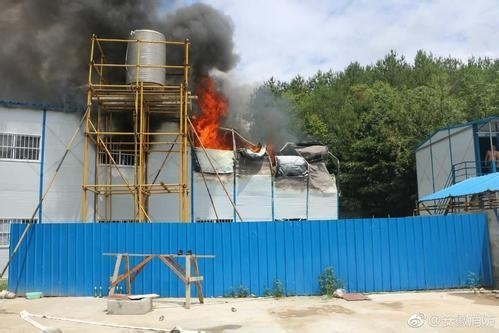fire: (190, 78, 228, 150)
